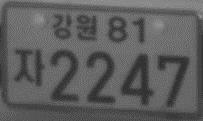1: (130, 16, 150, 43)
2: (84, 49, 117, 105), (49, 48, 81, 102)
4: (119, 53, 154, 105)
7: (156, 54, 190, 108)
8: (106, 15, 127, 43)
강원_H: (51, 13, 98, 42)
자: (13, 47, 46, 87)
